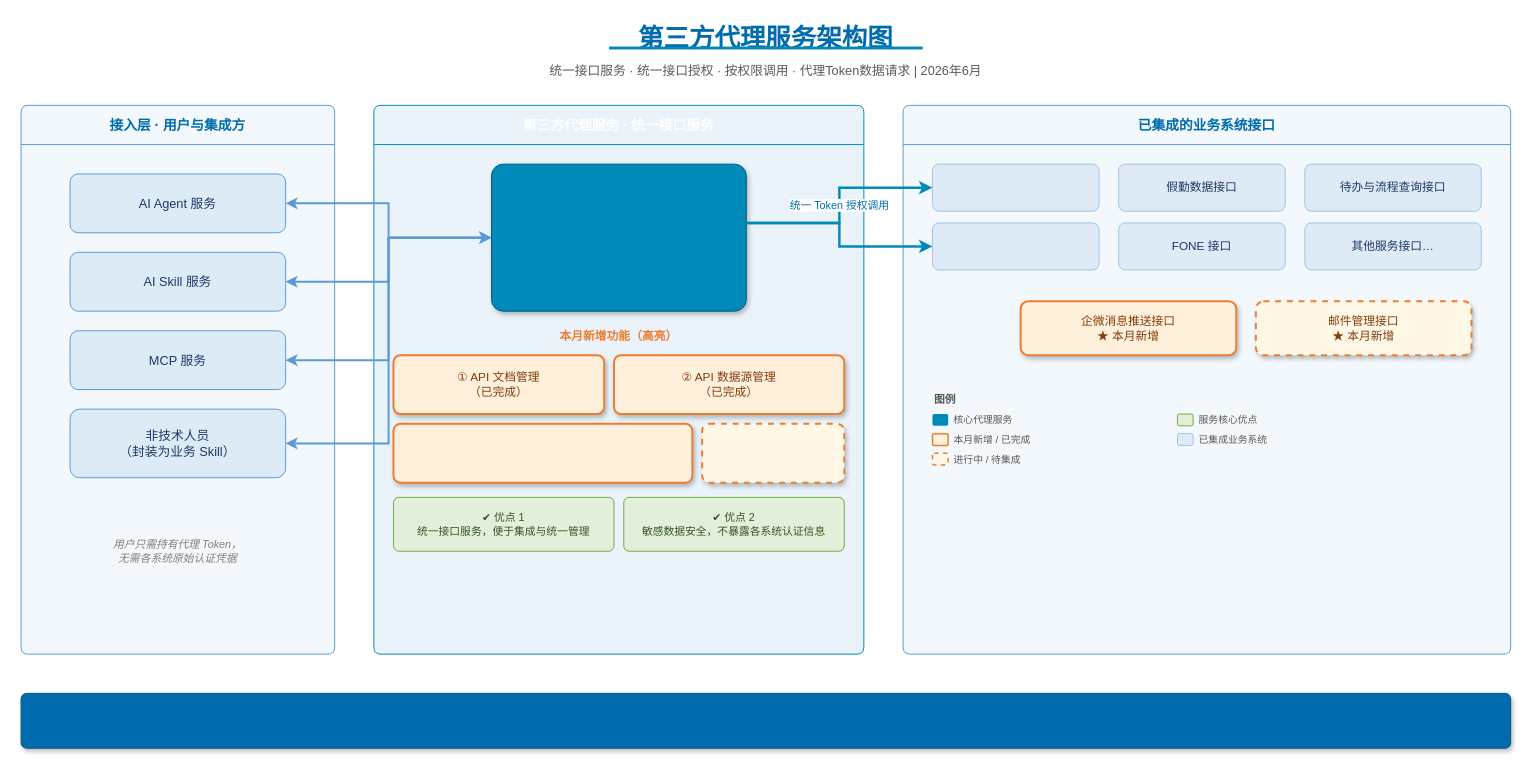
Some shapes in this 1534 by 772 pixel diagram are drawn without their labels. The shapes that lost their labels are listed below. From the top down, each one's centre as x and y in pixels, then its label:
point 1015,187: OA 会议数据接口
point 619,238: 统一接口服务 ────────────── · 统一接口授权 · 按用户权限调用 · 代理 Token 数据请求 · 统一管理与监控
point 1015,246: ERP 单据与报表查询
point 543,454: ③ 企微消息推送管理（已完成） 智能机器人 / 企微应用 / Webhook
point 774,454: ④ 邮件管理 发送/接收/查询 （待集成·进行中）
point 766,721: 📍 当前代理服务是「AI 智能平台」的数据管理实现层 —— 将分散的系统功能整合为统一接口服务，为 AI 全自动化管理提供数据底座。
